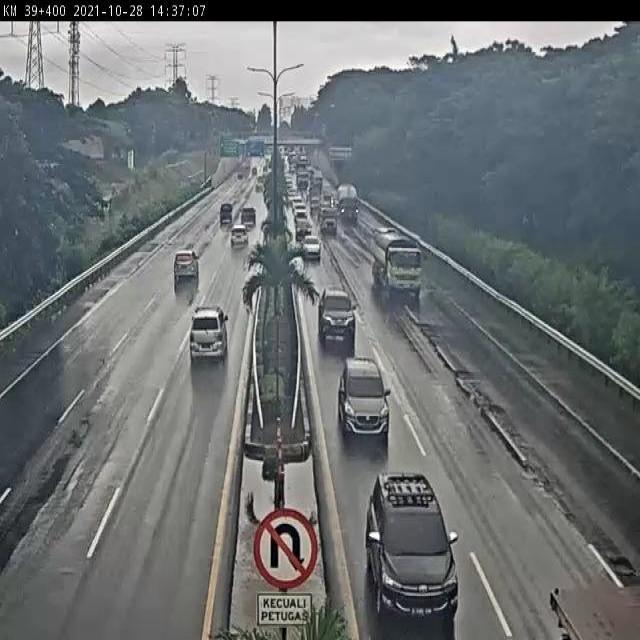big truck: (369, 220, 432, 304), (333, 184, 379, 228)
car: (359, 469, 464, 631), (336, 360, 399, 448), (312, 282, 358, 354), (186, 304, 234, 372), (162, 241, 205, 292), (299, 232, 329, 263), (296, 214, 319, 247), (242, 201, 261, 231), (216, 201, 236, 228), (231, 222, 250, 250)
